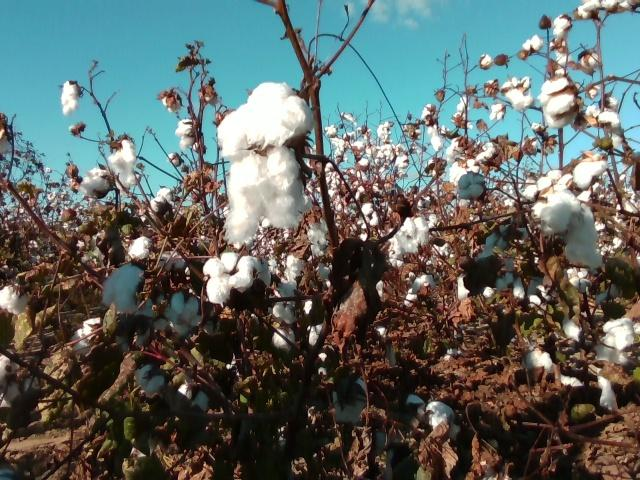cotton_ready: (219, 81, 319, 246), (530, 191, 603, 269), (202, 252, 263, 306), (538, 76, 579, 131), (101, 264, 144, 316), (163, 292, 205, 338), (107, 136, 139, 194), (598, 317, 636, 362), (79, 168, 112, 197)
